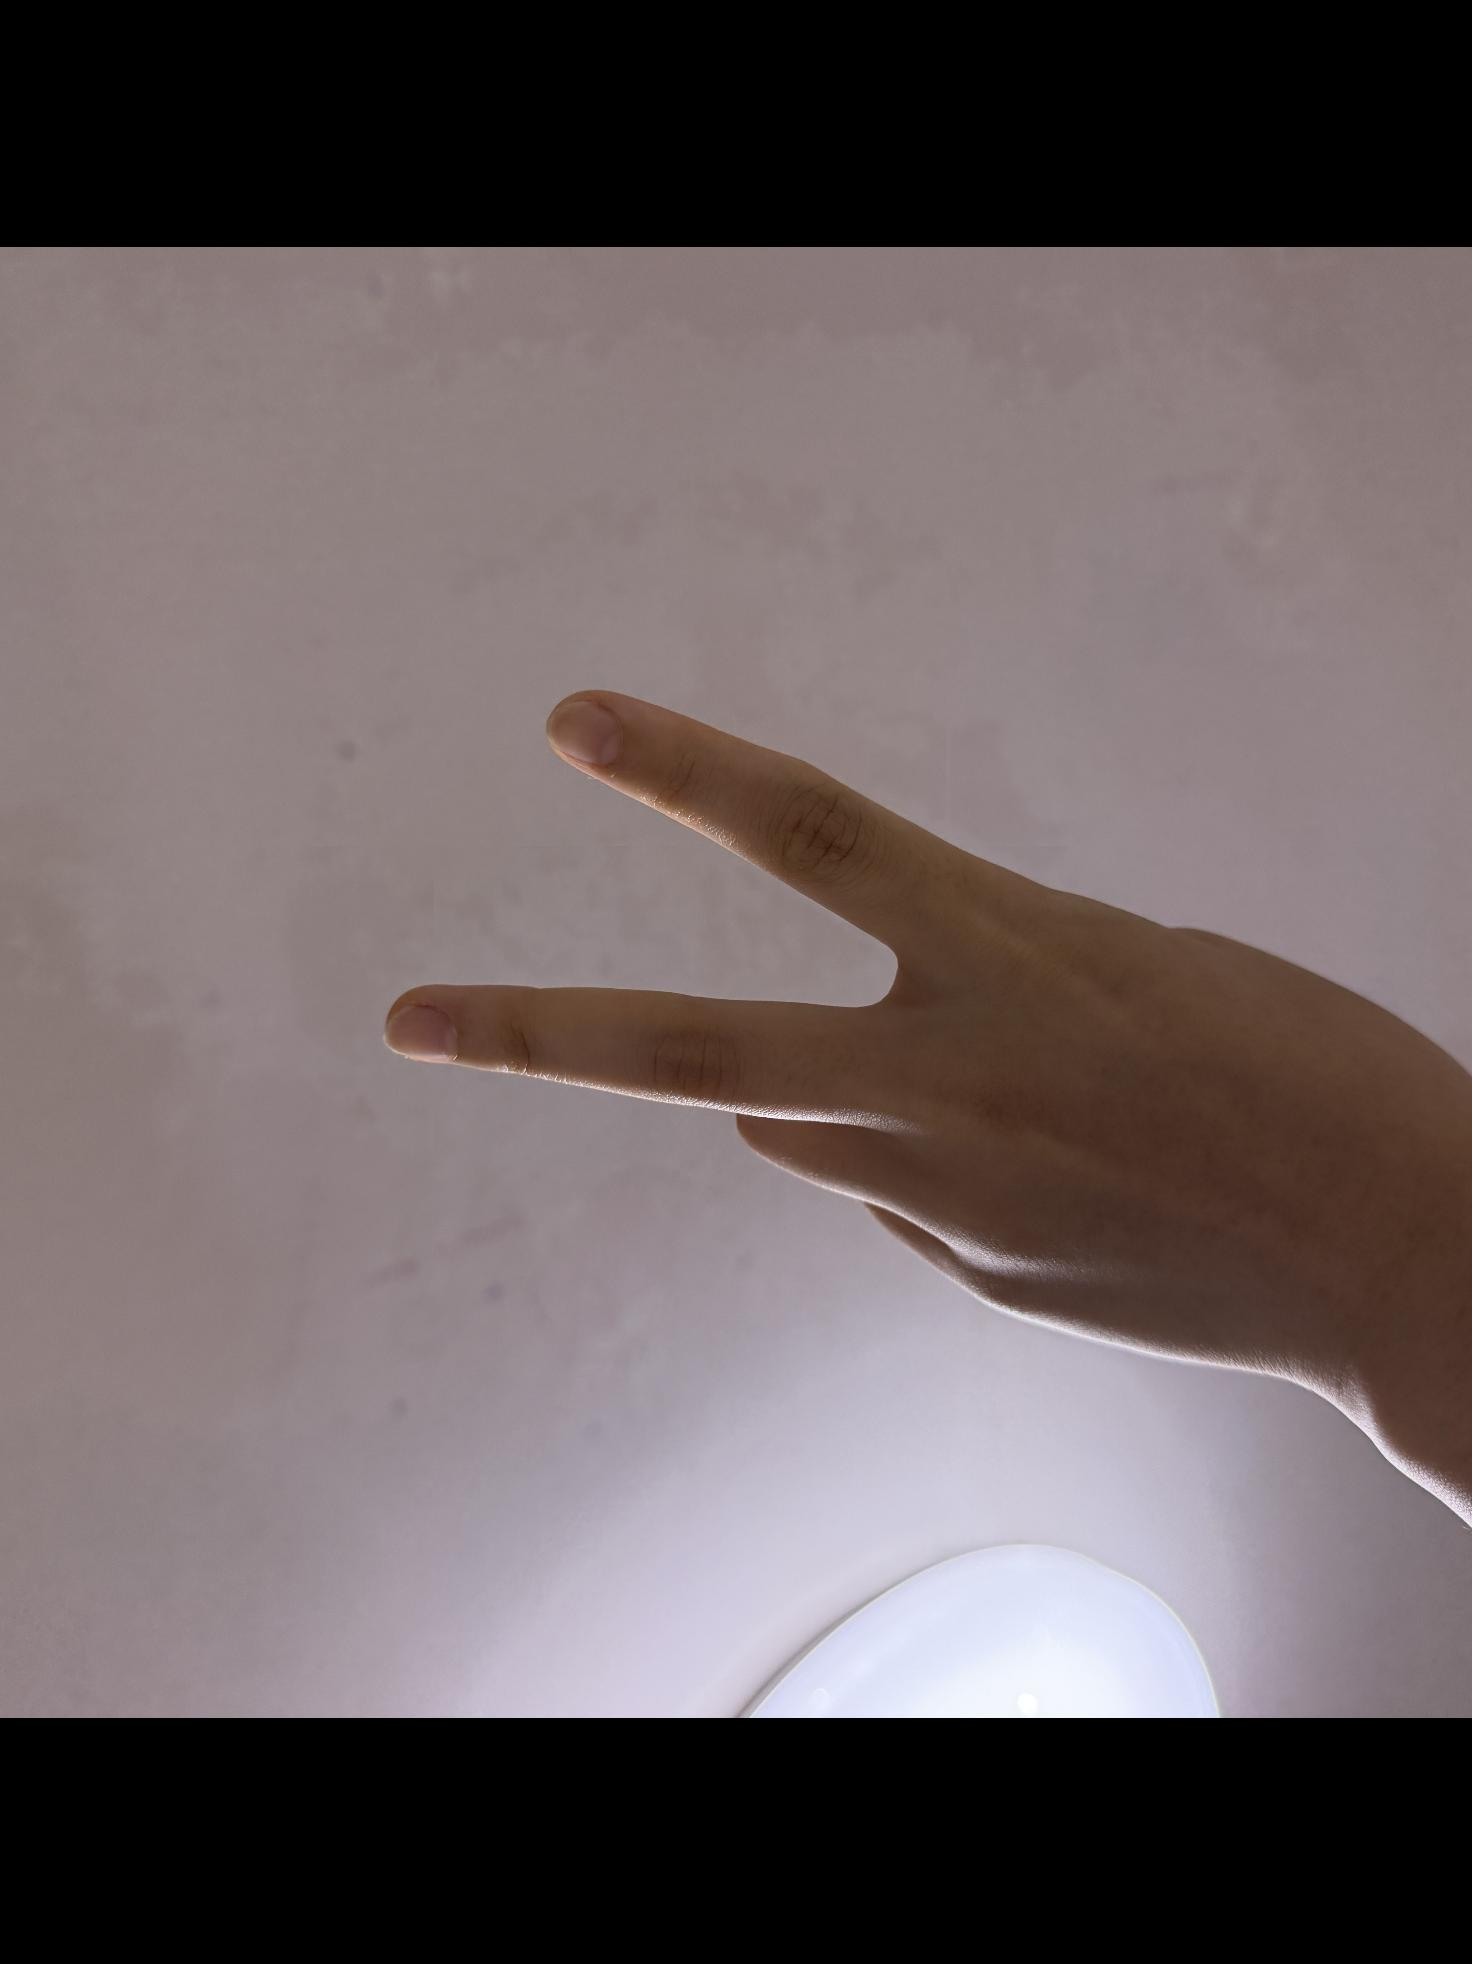v: (370, 674, 1472, 1386)
